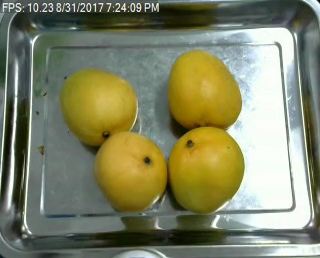Mango: (167, 126, 245, 213), (90, 131, 166, 212), (60, 68, 135, 147), (169, 50, 241, 129)
